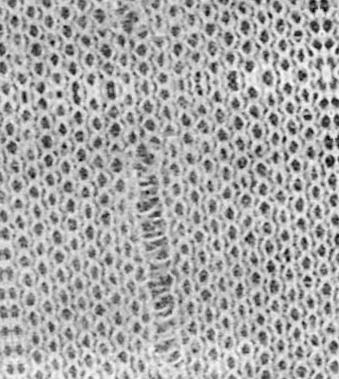slub: (132, 164, 186, 372)
